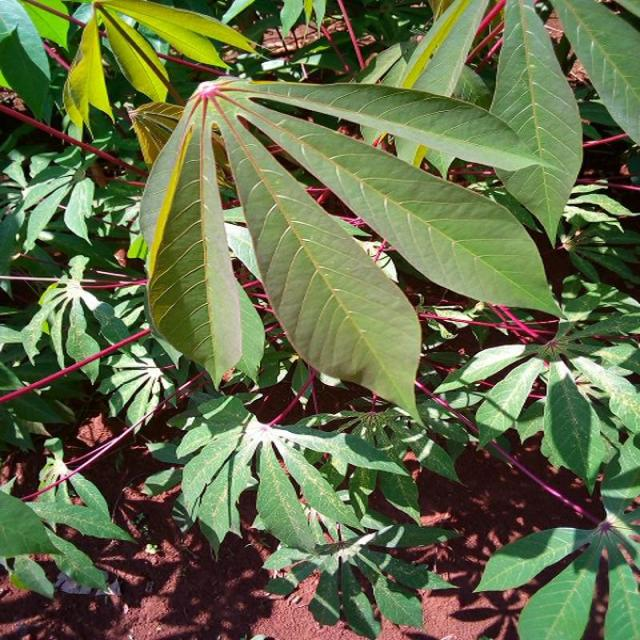cassava leaf: (138, 0, 584, 428)
